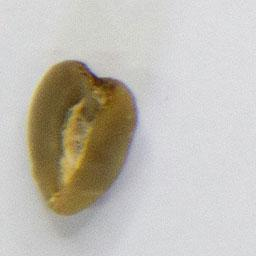longberry: (22, 55, 142, 219)
